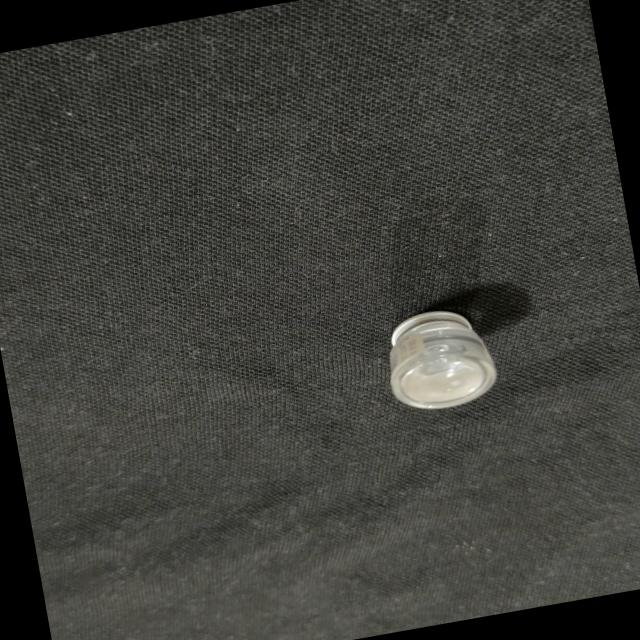fentanl_citrat: (381, 304, 498, 414)
